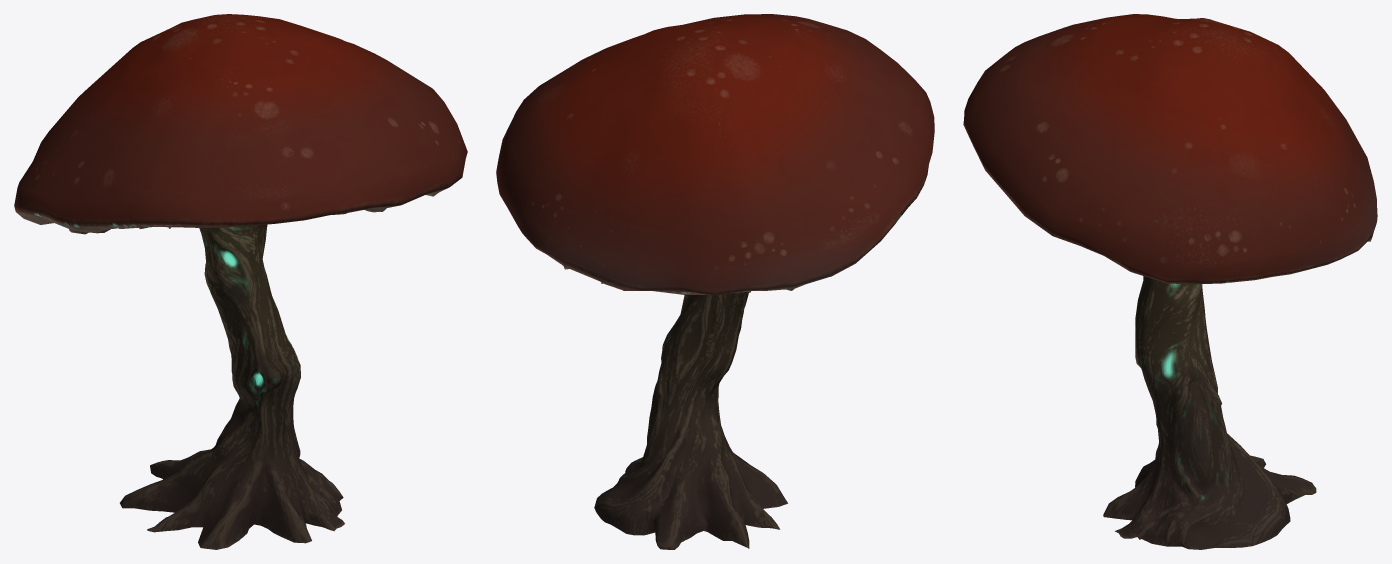
File: mushroom_min.glb
The picture shows the model from 3 angles, left to right: view 1: azimuth 30°, elevation 25°; view 2: azimuth 150°, elevation 25°; view 3: azimuth 270°, elevation 25°; orthographic projection. The views are drawn at different scales.
Parts seen in each view (by area): view 1: Plane.002; view 2: Plane.002; view 3: Plane.002.
Boxes of the visible parts, x1,y1,x2,y2 form: Plane.002: (14, 14, 467, 549); Plane.002: (496, 14, 934, 549); Plane.002: (963, 14, 1377, 549).
Size of the model in its own units: 3.71 by 4.3 by 3.41.
1 material, 1 textured.
